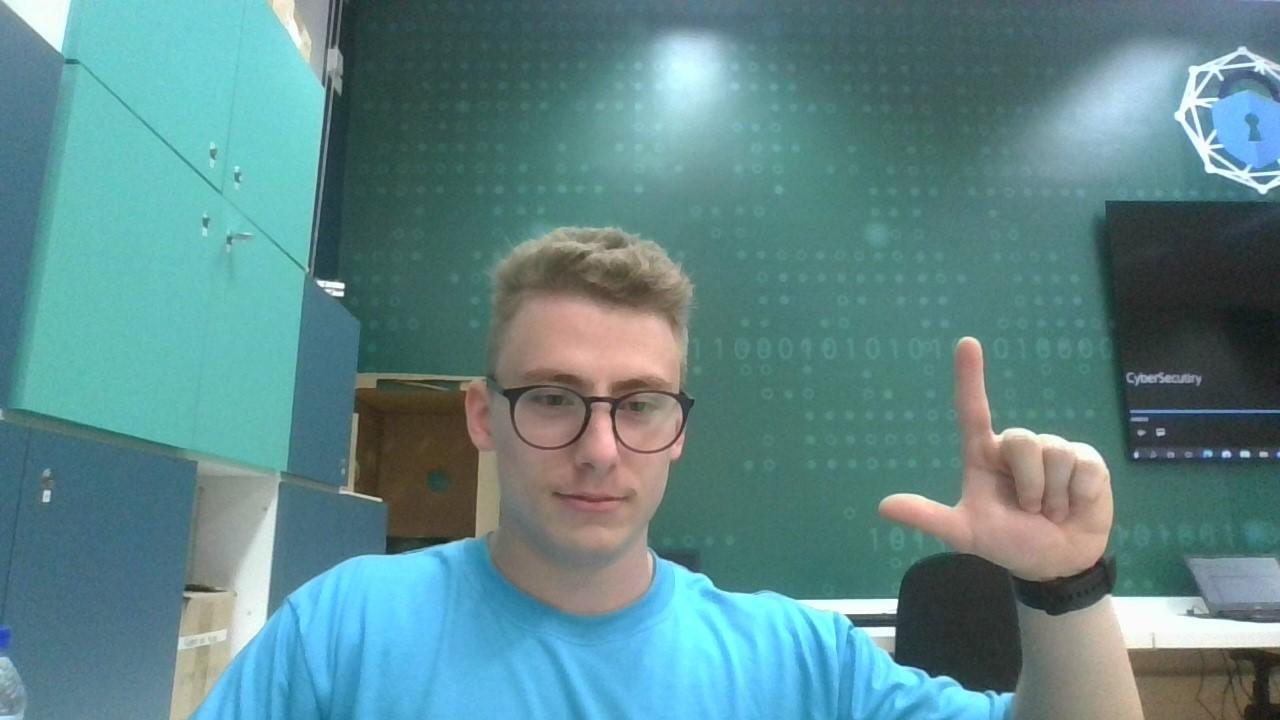L: (876, 312, 1118, 590)
